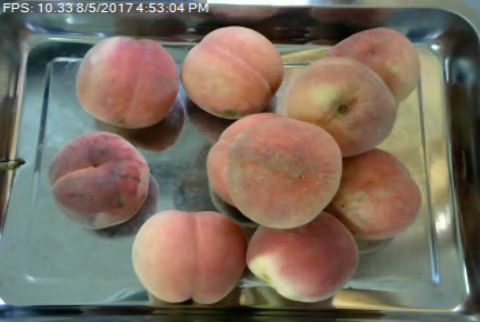Peach: (230, 117, 342, 228), (278, 56, 396, 156), (133, 208, 248, 305), (244, 215, 360, 303), (180, 24, 286, 119), (50, 130, 152, 227), (75, 36, 180, 129), (328, 146, 420, 239), (328, 27, 418, 105)
